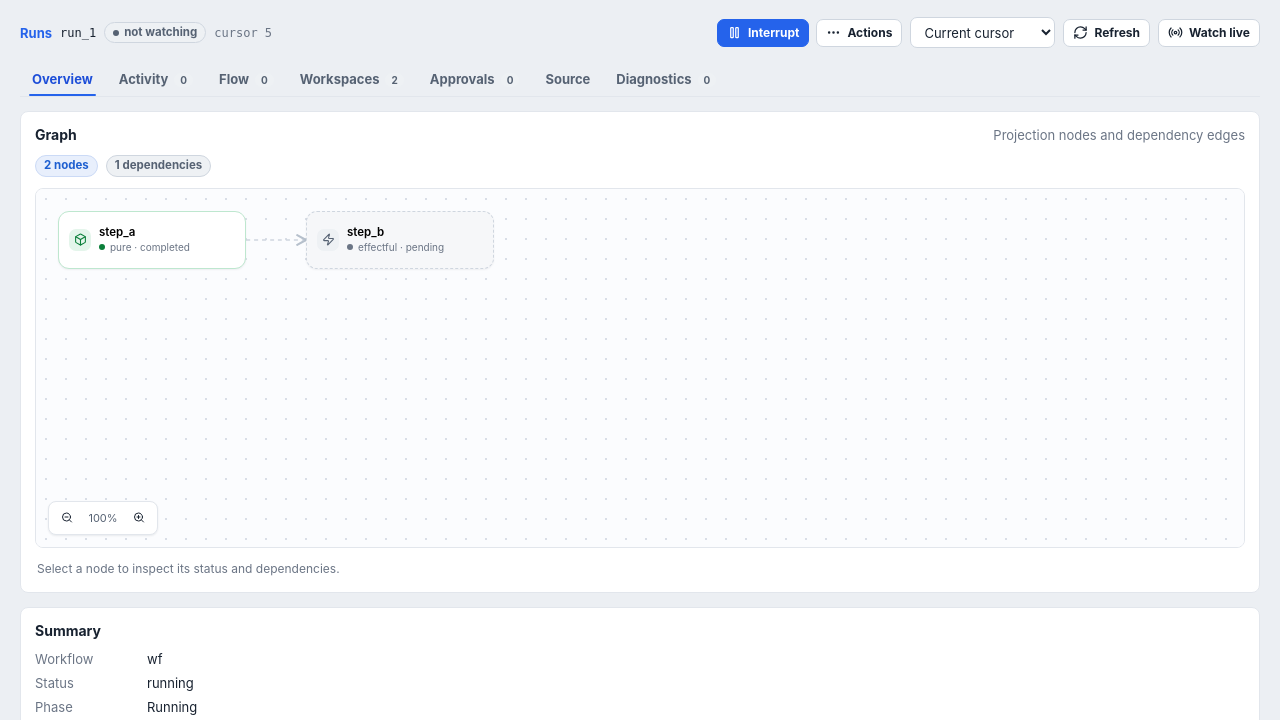
Test case: RunDetailScreen › labels the internal default workspace as the run target on detail
The image size is (1280, 720).
Step 1. Click the tab "Workspaces2" → (352,79), box x1=288 y1=62 x2=416 y2=96
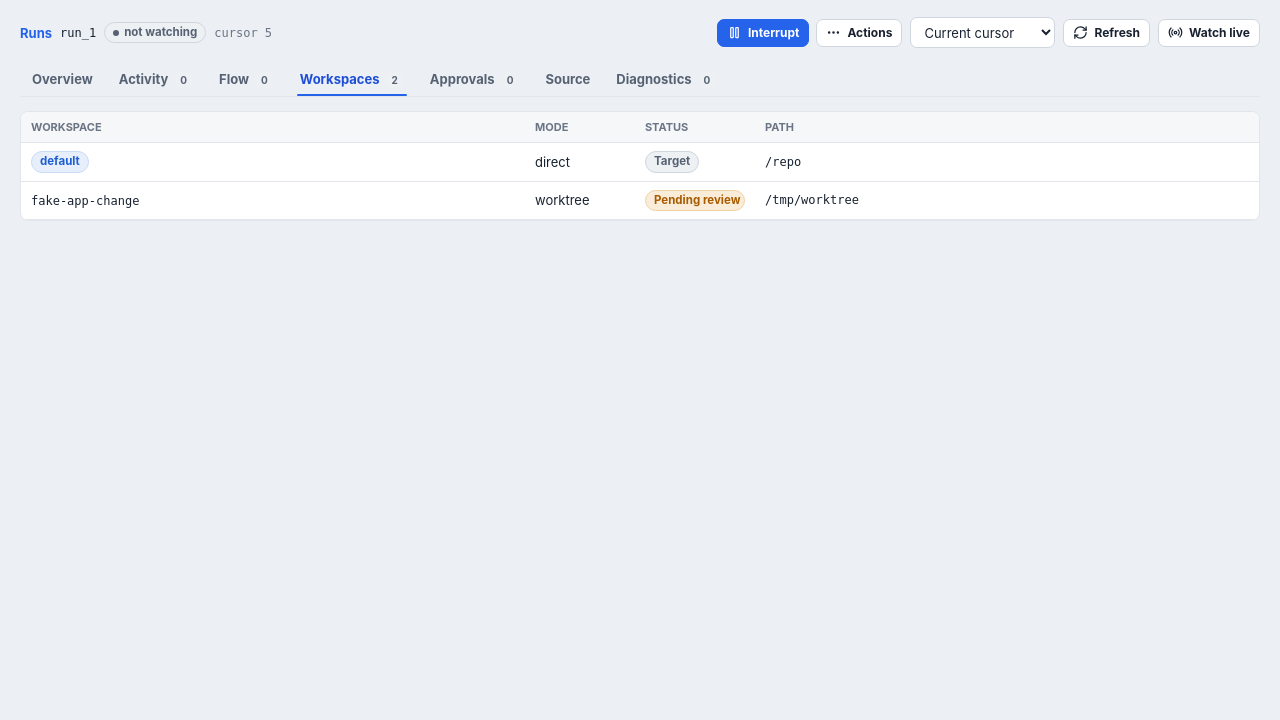
Expected: the text "default" is shown, x1=31 y1=151 x2=89 y2=172
Expected: the text "Target" is shown, x1=645 y1=151 x2=699 y2=172
Expected: the text "fake-app-change" is shown, x1=31 y1=194 x2=139 y2=208
